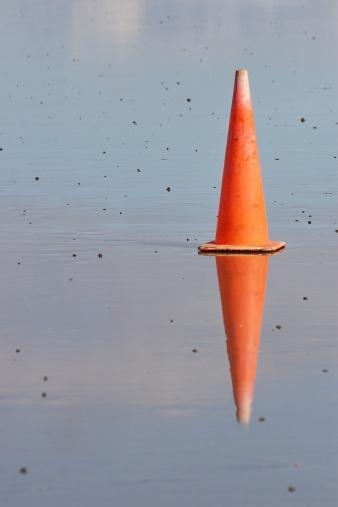Cone: (198, 65, 295, 257)
